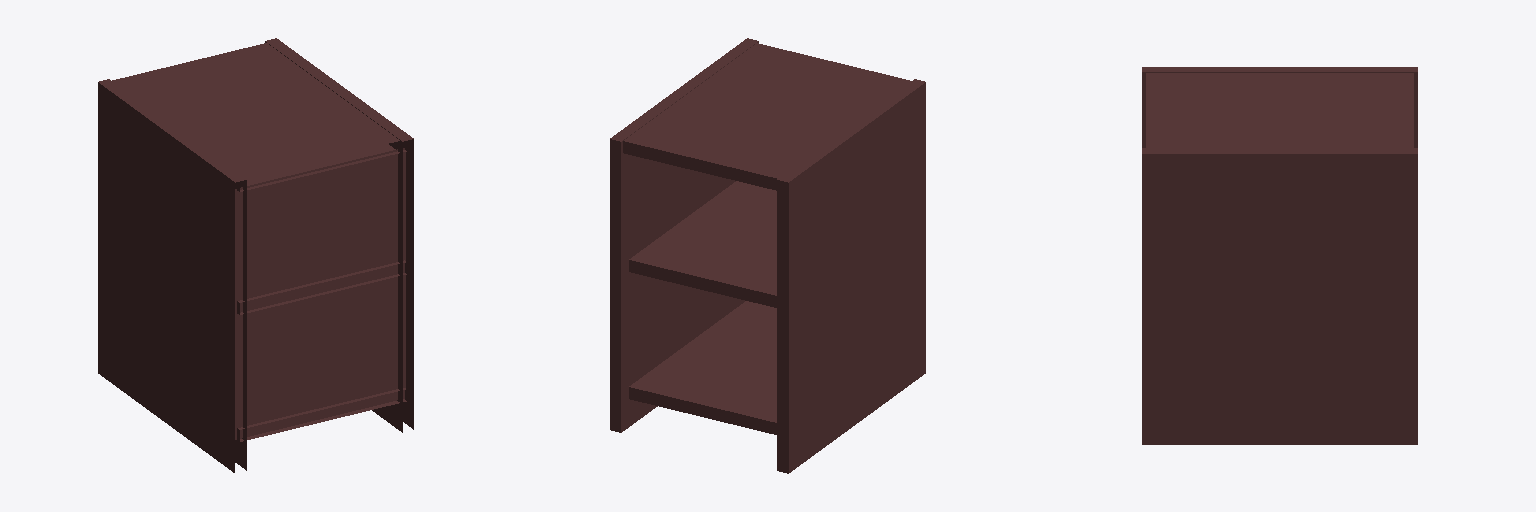
Rendered from shelves3.obj.
The picture shows the model from 3 angles: view 1: azimuth 30°, elevation 25°; view 2: azimuth 150°, elevation 25°; view 3: azimuth 270°, elevation 25°; orthographic projection.
Parts seen in each view (by area): view 1: shelves3; view 2: shelves3; view 3: shelves3.
Boxes of the visible parts, x1=… form: shelves3: x1=98, y1=38, x2=413, y2=472; shelves3: x1=610, y1=38, x2=925, y2=473; shelves3: x1=1142, y1=67, x2=1417, y2=444.
Bounding box in the file's own units: 0.5083 × 0.7901 × 0.6772.